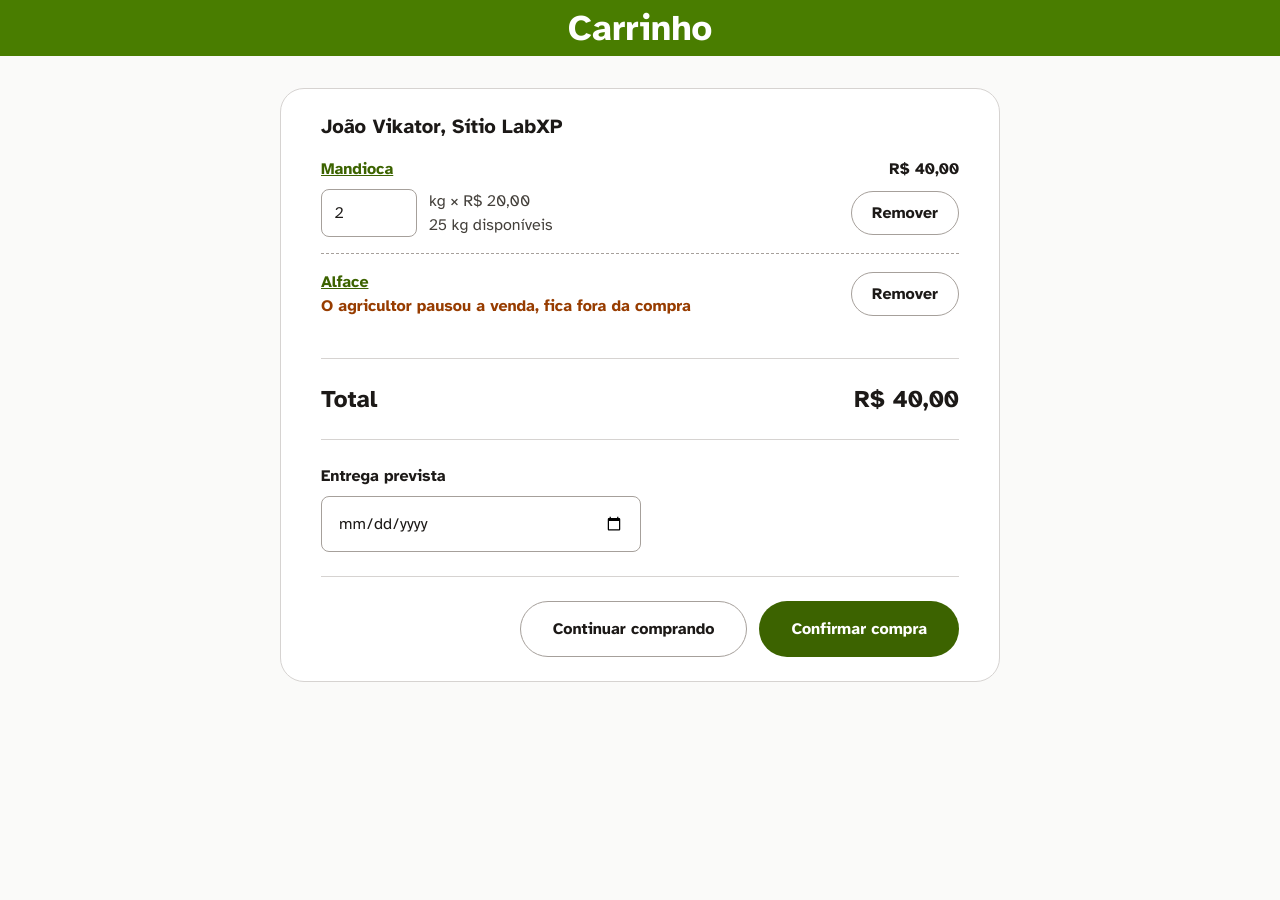
Test: Cart submit with a product that came back › asks again when a paused product can be bought again
The image size is (1280, 900).
Type "2026-12-01" into the date field labelled "Entrega prevista" at (481, 524), box [321,496,641,552]
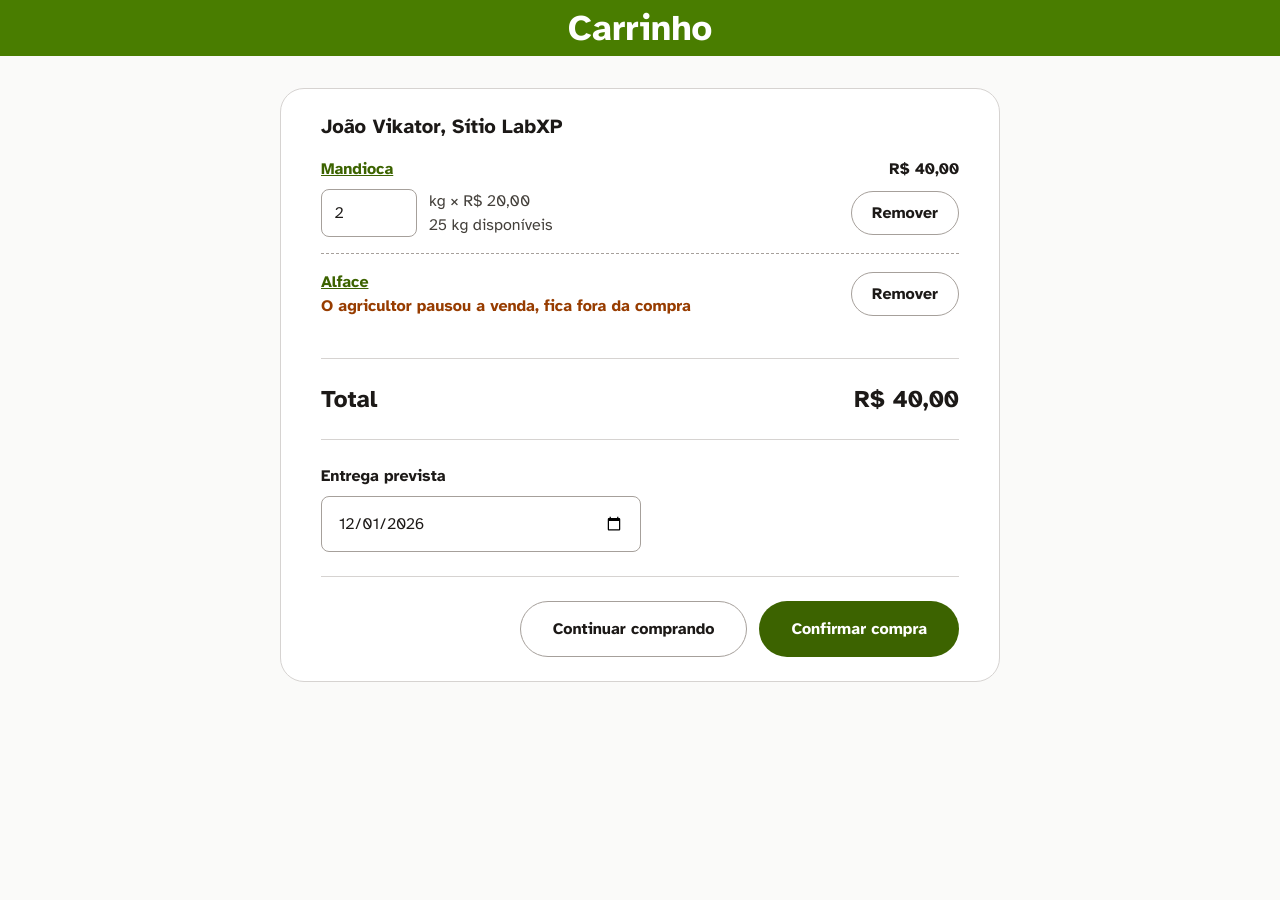
Click the button "Confirmar compra" at (859, 629), box [759,601,959,657]
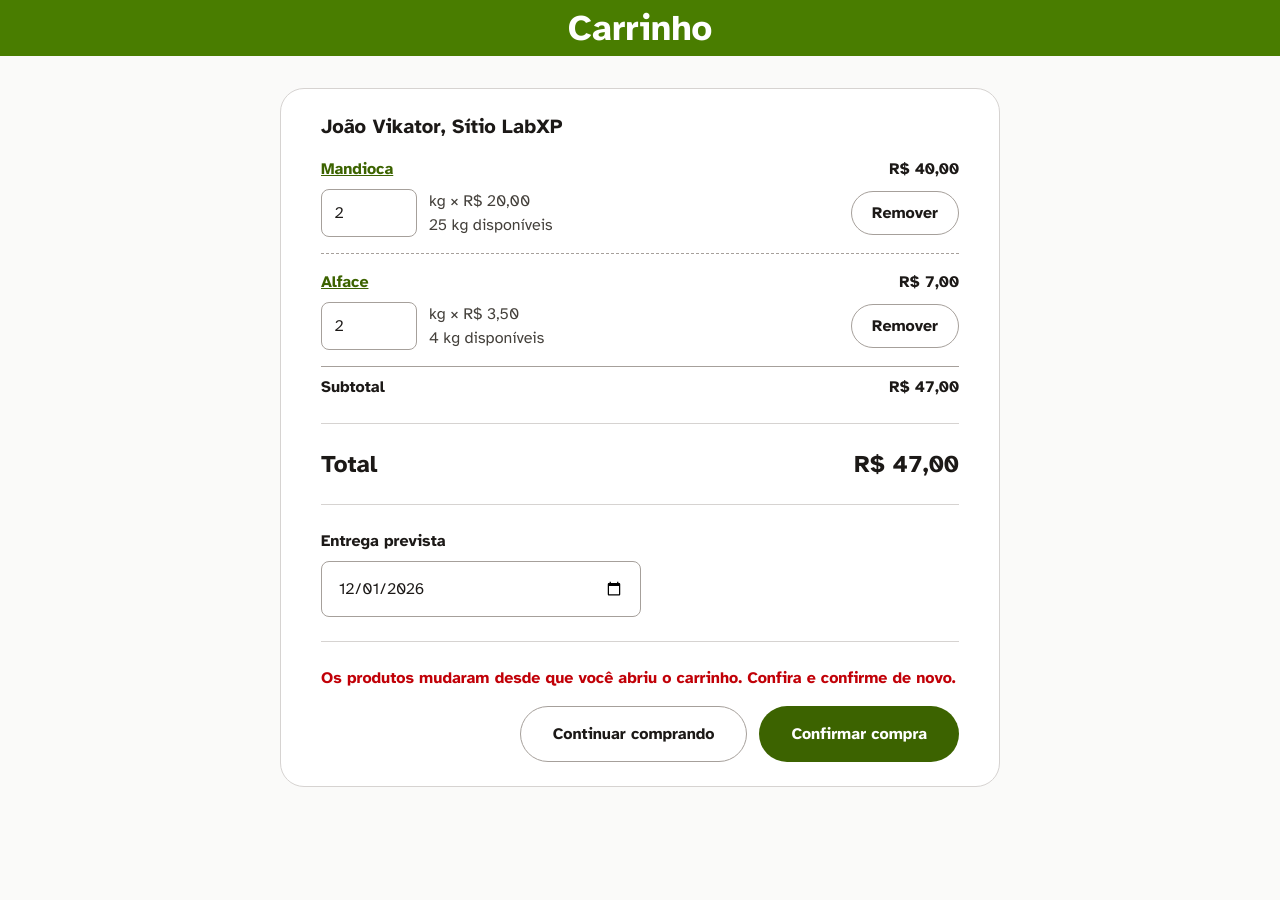
Check: the message shows "Os produtos mudaram", box [321,668,956,688]
Check: the text "Subtotal R$ 47,00" is shown, box [321,366,959,399]
